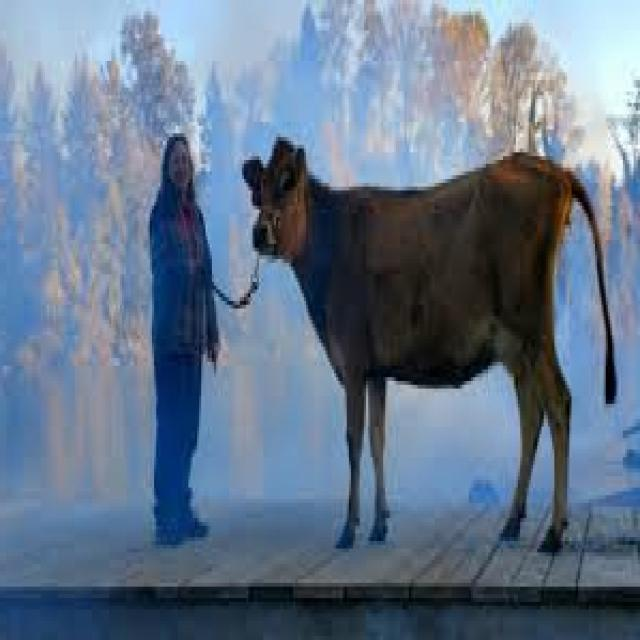cow: (244, 137, 616, 549)
